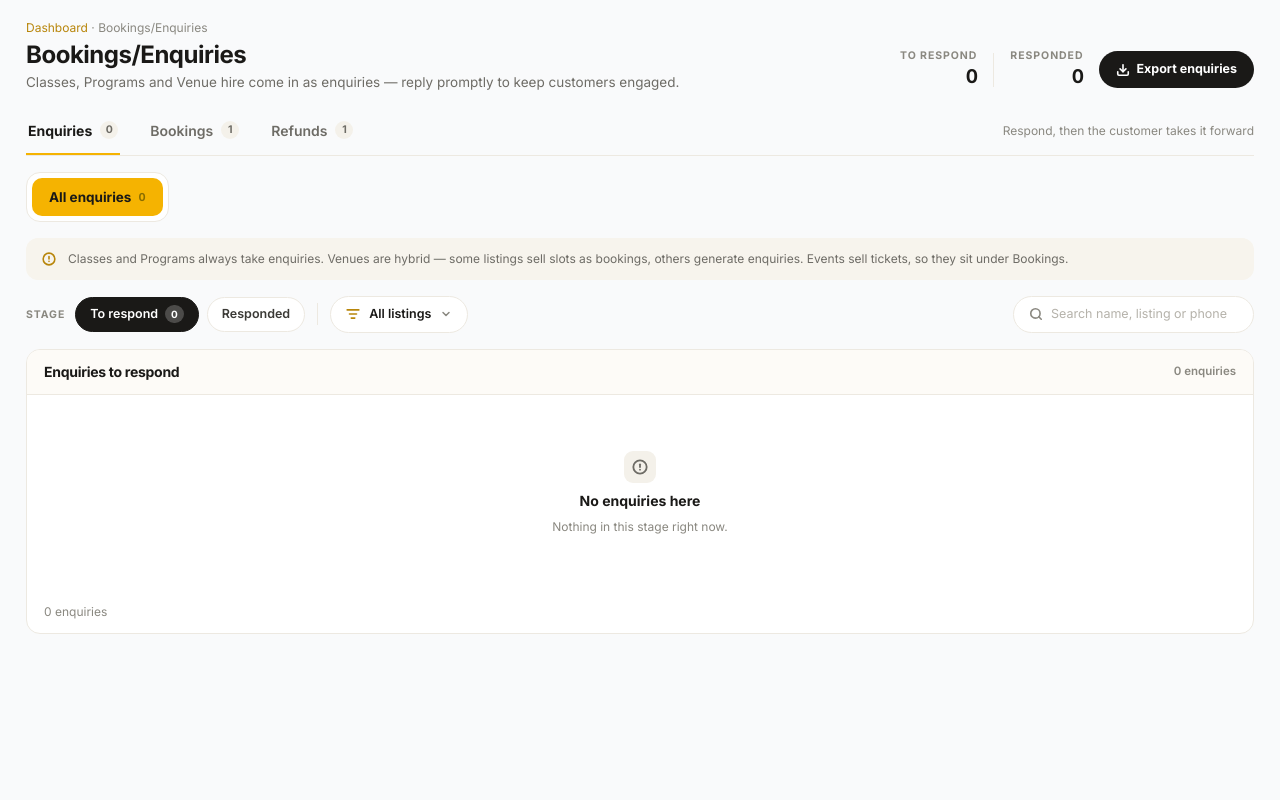
Scenario: Bookings/Enquiries — Refunds tab › opens the booking detail, with its timeline, from a refund row
Click the button "Refunds 1".
click(312, 131)  # box [269, 108, 356, 155]
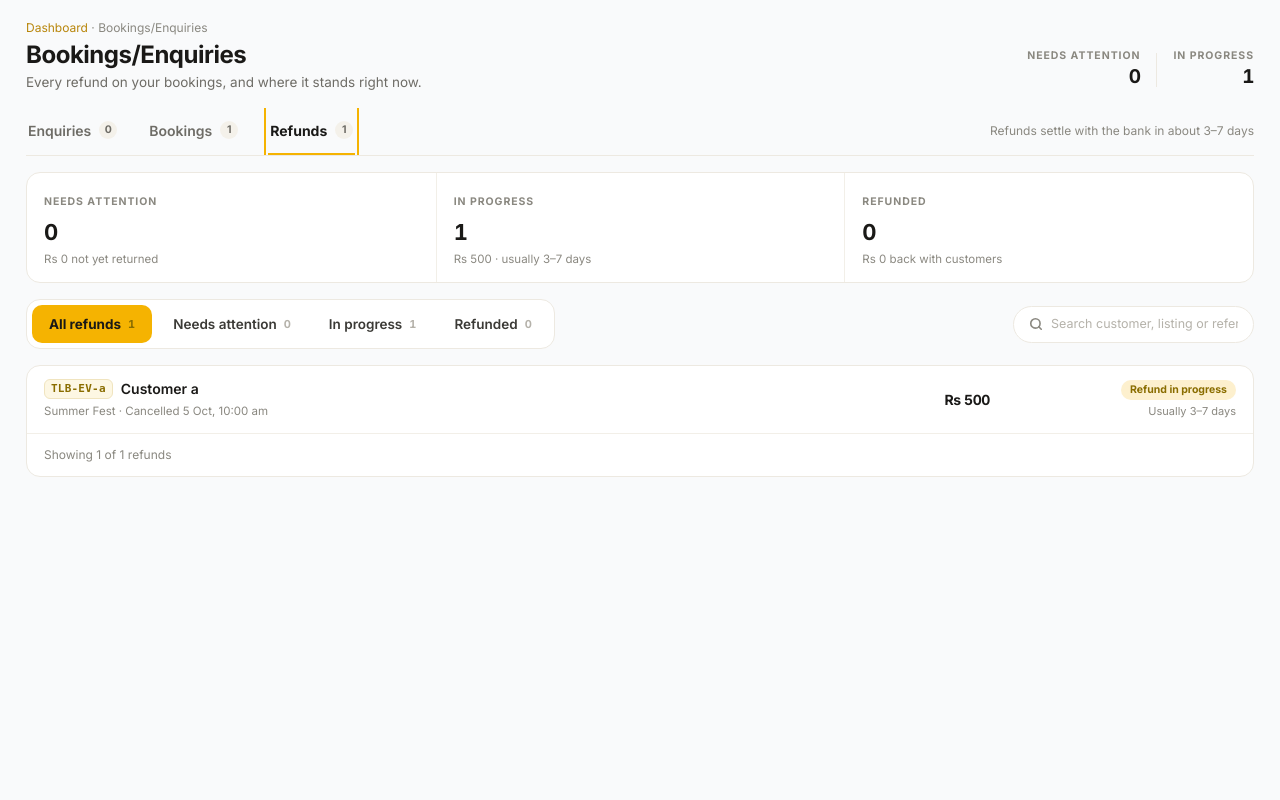
Click the button "Customer a".
click(78, 389)  # box [27, 366, 1253, 434]
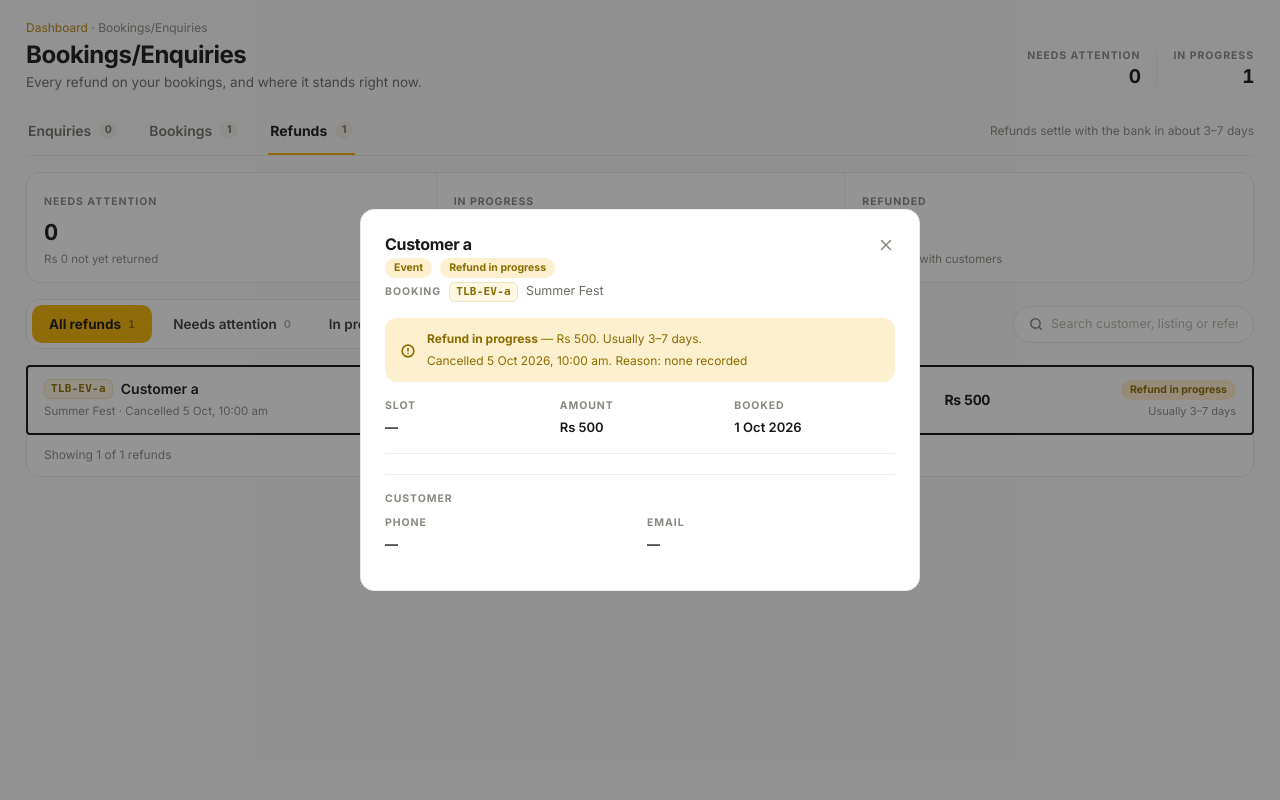
Check: the dialog is shown, box [360, 209, 920, 591]
